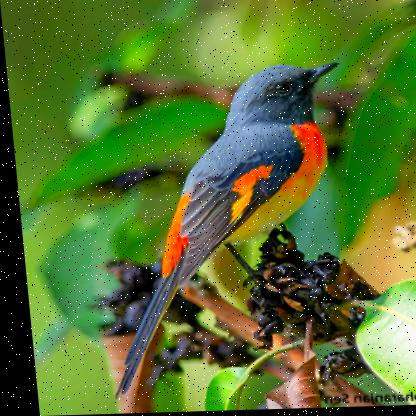Burung: (82, 63, 361, 397)
